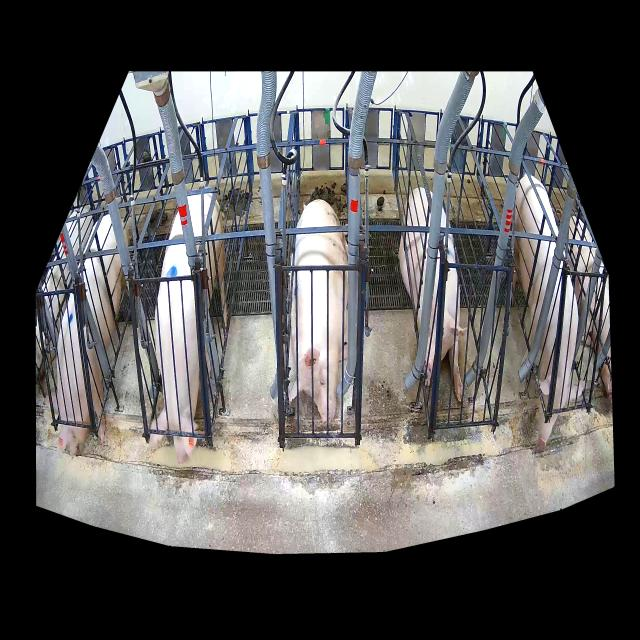pig: (150, 193, 228, 464), (512, 175, 584, 446), (45, 214, 123, 455), (398, 188, 467, 401), (289, 199, 348, 426)
